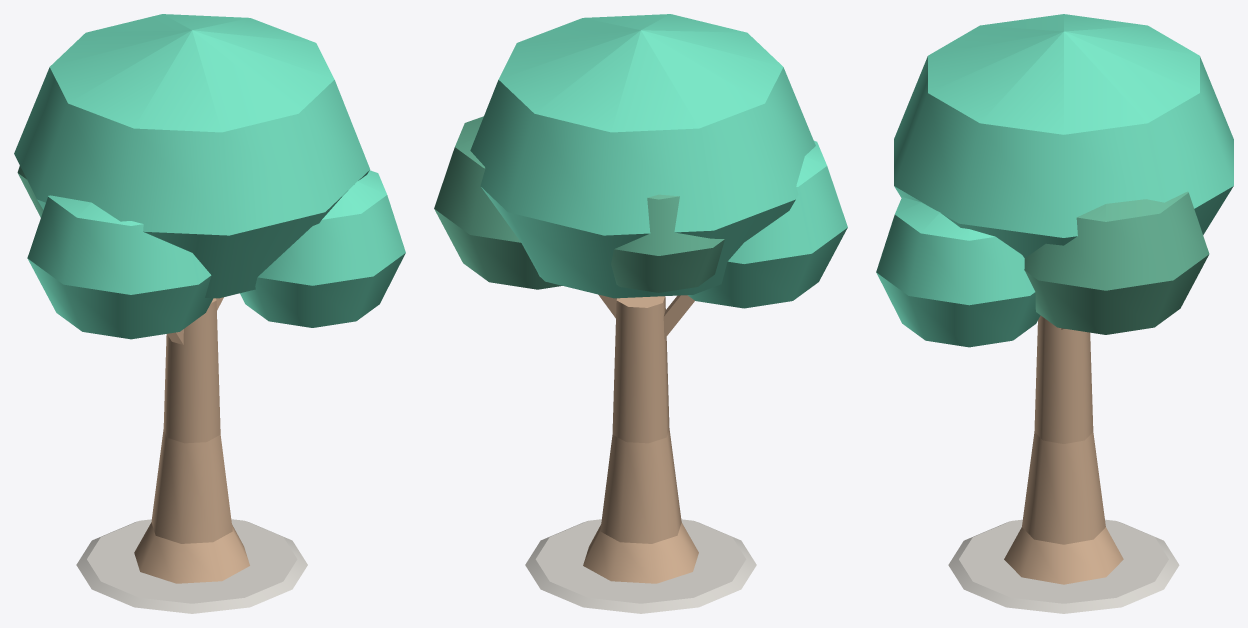
Rendered from gardenFruitTree.glb.
The picture shows the model from 3 angles, left to right: view 1: azimuth 30°, elevation 25°; view 2: azimuth 150°, elevation 25°; view 3: azimuth 270°, elevation 25°; orthographic projection.
Visible parts, largest first — view 1: gardenFruitTree; view 2: gardenFruitTree; view 3: gardenFruitTree.
Boxes of the visible parts, x1,y1,x2,y2 form: gardenFruitTree: [14, 14, 405, 613]; gardenFruitTree: [434, 14, 847, 613]; gardenFruitTree: [876, 14, 1233, 613].
Size of the model in its own units: 0.9349 by 1.4 by 0.8508.
